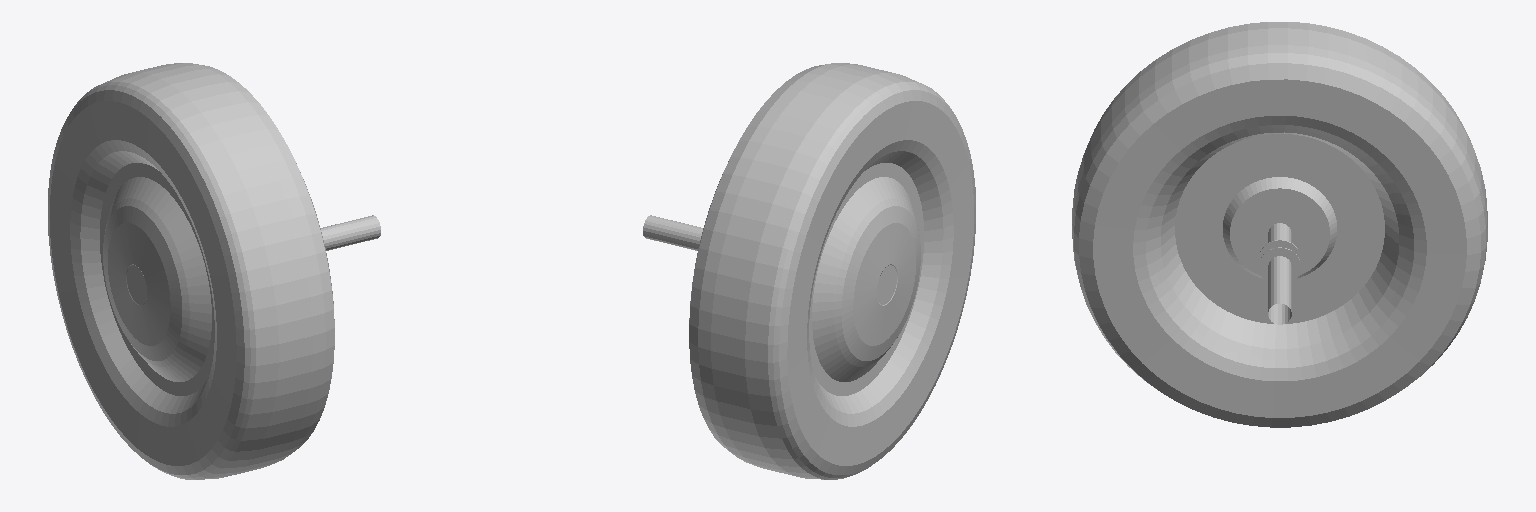
File: vocho_rueda4.obj
The picture shows the model from 3 angles: view 1: azimuth 30°, elevation 25°; view 2: azimuth 150°, elevation 25°; view 3: azimuth 270°, elevation 25°; orthographic projection.
Parts seen in each view (by area): view 1: VW_Beetle.079_Cube.080; view 2: VW_Beetle.079_Cube.080; view 3: VW_Beetle.079_Cube.080.
Part boxes in pixels (bbox=[...]): VW_Beetle.079_Cube.080: bbox=[48, 63, 380, 479]; VW_Beetle.079_Cube.080: bbox=[643, 63, 975, 479]; VW_Beetle.079_Cube.080: bbox=[1072, 22, 1487, 427].
Size of the model in its own units: 0.4407 by 0.6644 by 0.6644.